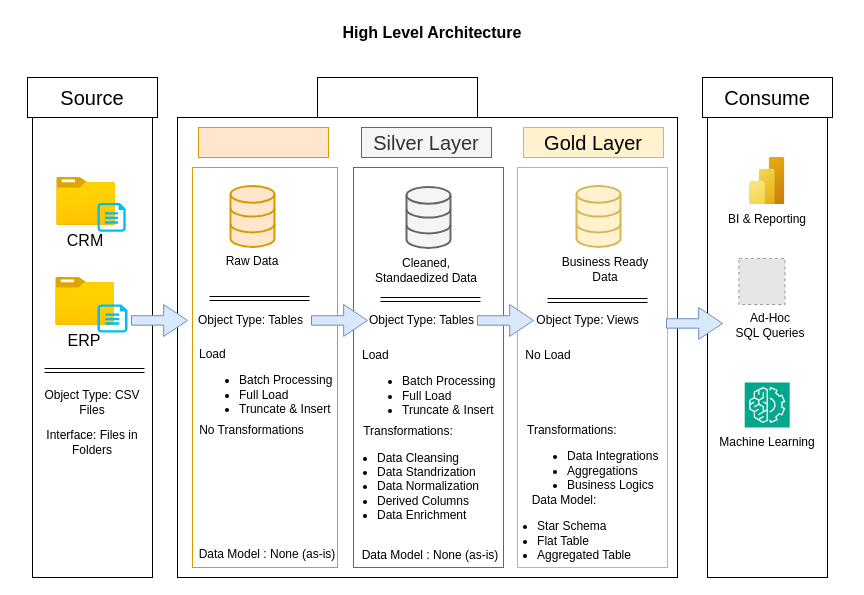
The diagram is 864 pixels wide and 595 high, and some of its shapes have lost their labels. Grey dashed boxes stand in for pictures. Here are the shapes that lost their labels. From the top down, the centre of each, then its label:
pixel 397 97: Data Warehouse
pixel 263 142: Bronze Layer
